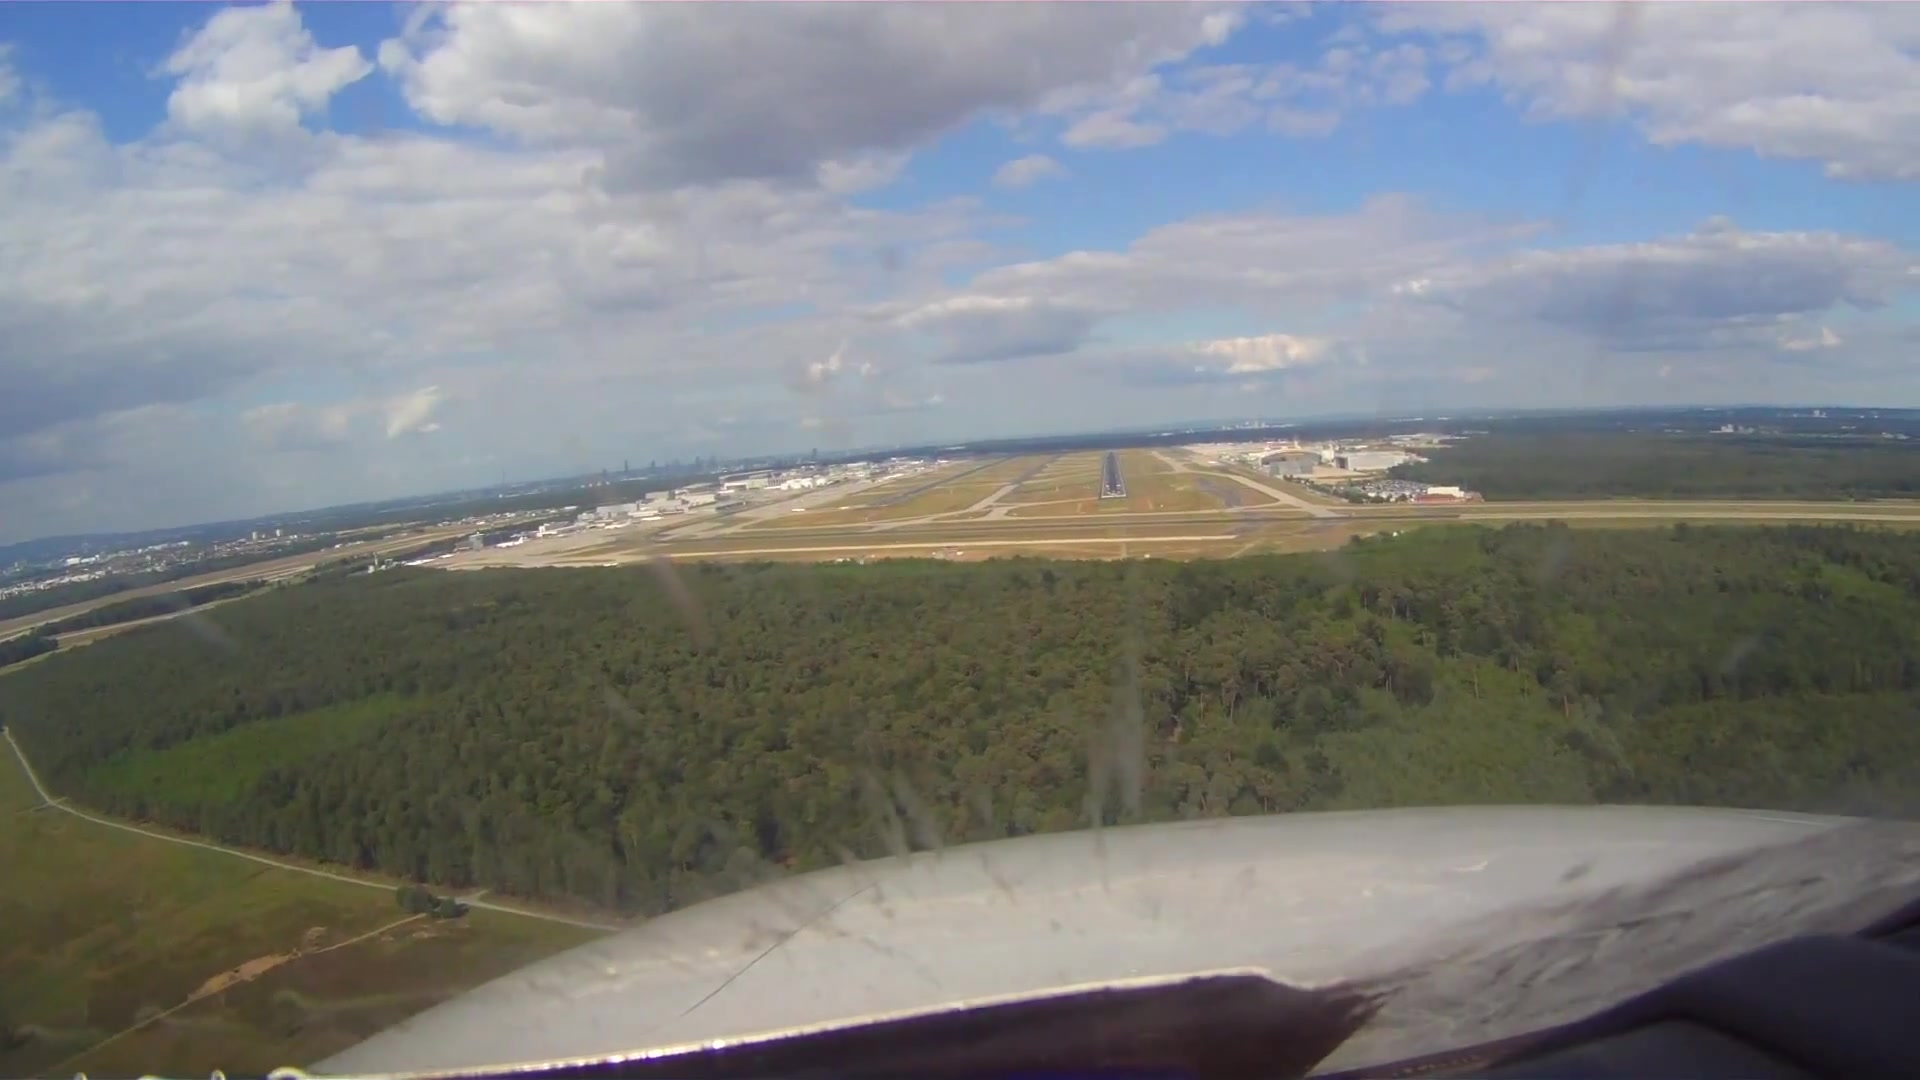runway: (1098, 454, 1131, 501)
